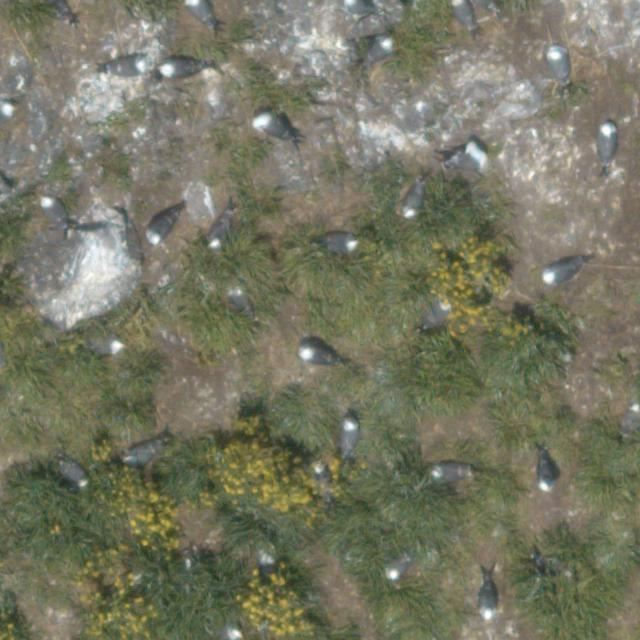umineko: (119, 432, 172, 464), (253, 112, 300, 148), (414, 294, 452, 334), (445, 140, 488, 174), (205, 212, 233, 255), (387, 548, 419, 583), (481, 574, 498, 627), (316, 235, 361, 254), (148, 213, 176, 242), (548, 48, 568, 84), (543, 262, 579, 282), (600, 124, 618, 164), (367, 37, 392, 63), (186, 1, 212, 24), (160, 60, 197, 76), (404, 185, 423, 215), (451, 1, 471, 29), (301, 346, 332, 364), (538, 458, 556, 489), (341, 422, 358, 454), (62, 462, 84, 486), (432, 465, 464, 481), (43, 198, 64, 221), (111, 61, 142, 75), (95, 338, 122, 354), (0, 100, 12, 119)
